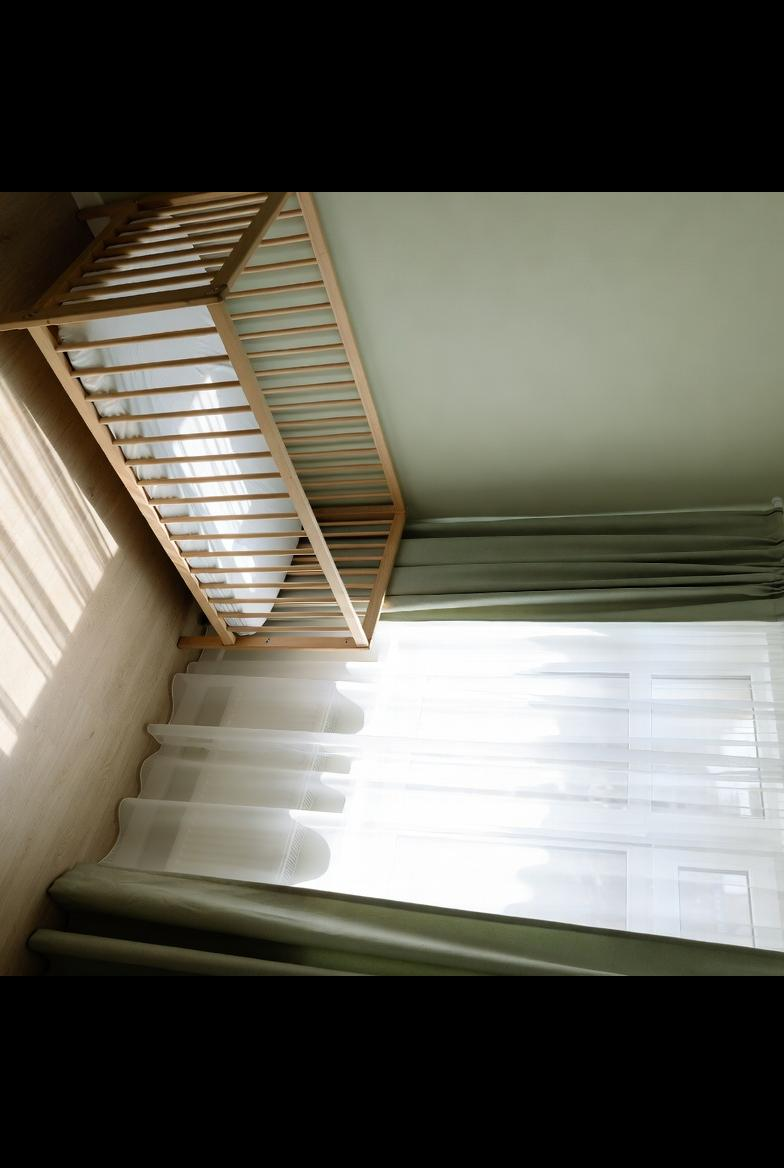crib: (0, 192, 426, 685)
